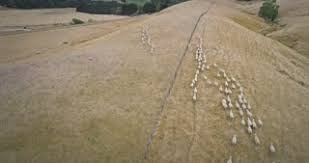sheep: (229, 132, 240, 146), (189, 92, 200, 104), (219, 98, 228, 111), (252, 133, 262, 144), (227, 108, 236, 120), (267, 141, 276, 153), (256, 117, 265, 127), (216, 84, 225, 93), (224, 154, 233, 163), (229, 73, 237, 83), (226, 85, 234, 95), (239, 116, 247, 125), (245, 102, 253, 110), (233, 99, 240, 108), (193, 73, 200, 81), (214, 72, 222, 79), (192, 86, 198, 93), (202, 73, 208, 80), (205, 64, 210, 70), (211, 62, 216, 68)
